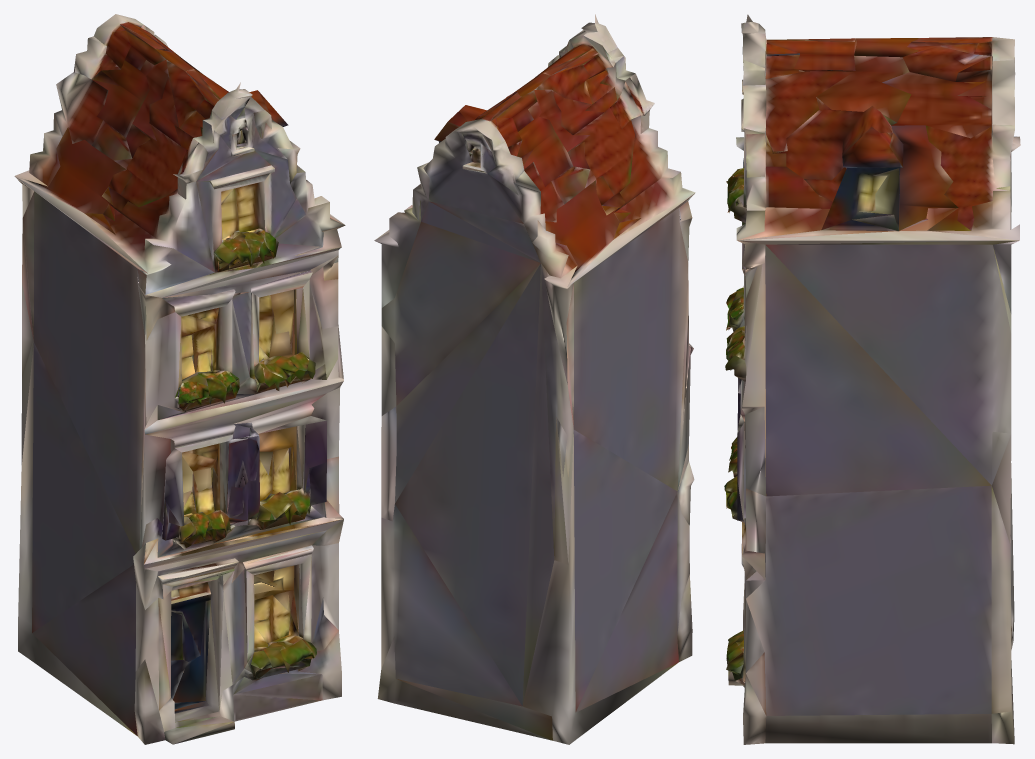
The model's file is getkong-haus7.glb.
3 views of the same model, side by side, from view 1: azimuth 30°, elevation 25°; view 2: azimuth 150°, elevation 25°; view 3: azimuth 270°, elevation 25° (orthographic). The views are drawn at different scales.
Visible parts, largest first — view 1: output_unwrapped; view 2: output_unwrapped; view 3: output_unwrapped.
Part boxes in pixels (x1=…): output_unwrapped: x1=14, y1=14, x2=345, y2=744; output_unwrapped: x1=374, y1=14, x2=695, y2=744; output_unwrapped: x1=724, y1=14, x2=1020, y2=744.
Bounding box in the file's own units: 0.626 × 1.9 × 0.7509.
Materials: 1 (1 with a texture image).
